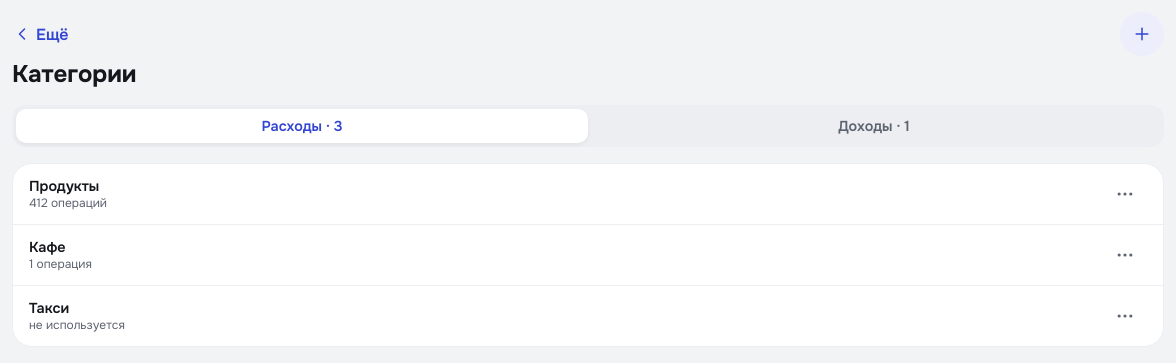
it: CategoriesScreen › menu › closes on Escape
Click the button named "Действия: Продукты".
click(1125, 194)  # box [1103,172,1147,216]
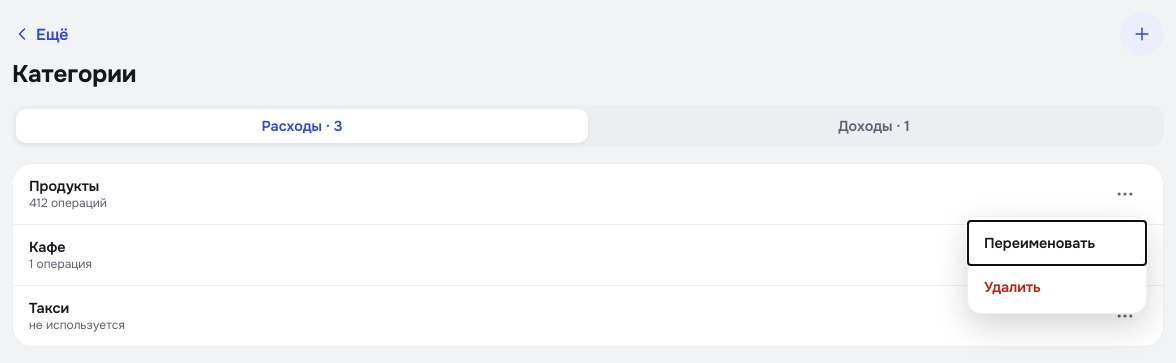
Press Escape
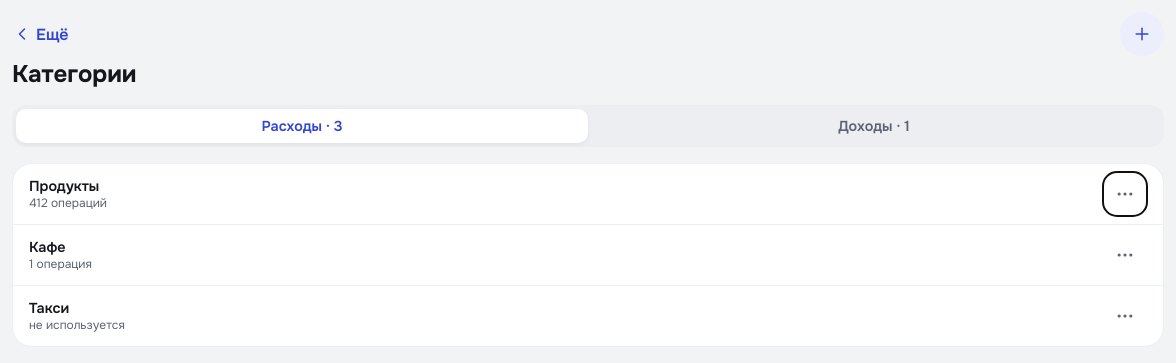
Expected: the menu is gone
